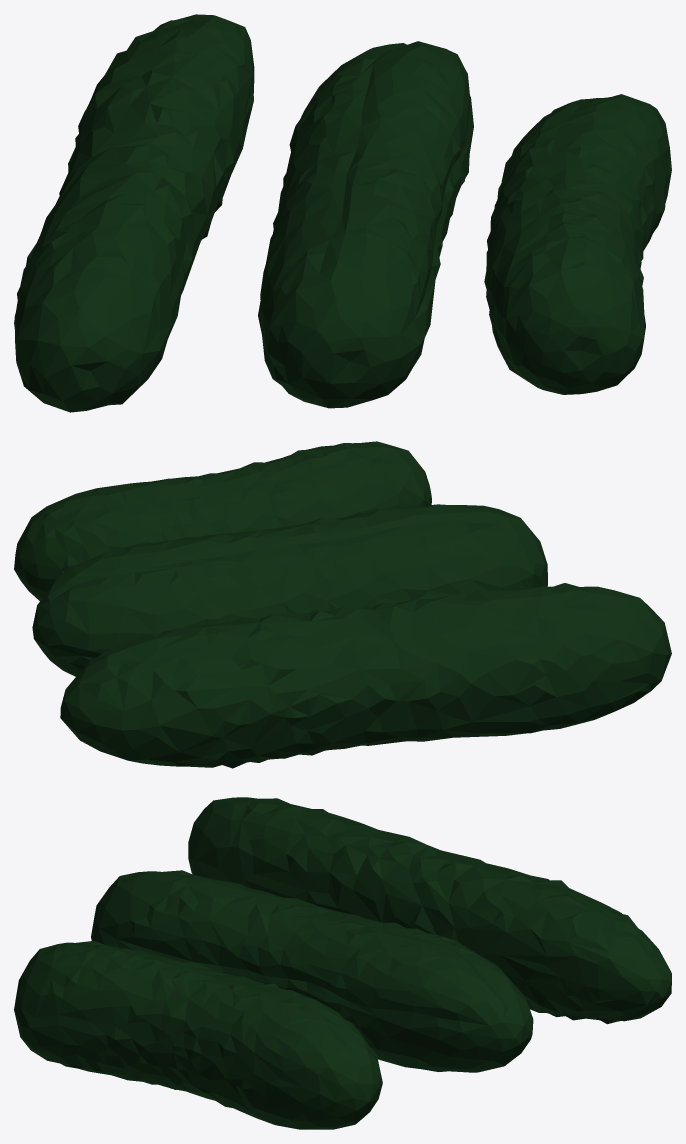
The model's file is Cucumber.FBX.
3 renders of one model, top to bottom at view 1: azimuth 30°, elevation 25°; view 2: azimuth 150°, elevation 25°; view 3: azimuth 270°, elevation 25°, orthographic. The views are drawn at different scales.
Visible parts, largest first — view 1: Cucumber_5, Cucumber_6, Cucumber1; view 2: Cucumber_5, Cucumber_6, Cucumber1; view 3: Cucumber_5, Cucumber1, Cucumber_6.
Part boxes in pixels (x1,y1,x2,y2): Cucumber_5: (14, 14, 254, 412); Cucumber_6: (258, 41, 473, 408); Cucumber1: (484, 94, 671, 394); Cucumber_5: (60, 583, 671, 768); Cucumber_6: (32, 504, 547, 676); Cucumber1: (14, 441, 431, 600); Cucumber_5: (188, 797, 671, 1024); Cucumber1: (14, 941, 382, 1129); Cucumber_6: (91, 870, 533, 1072).
Size of the model in its own units: 143 by 32.99 by 143.
